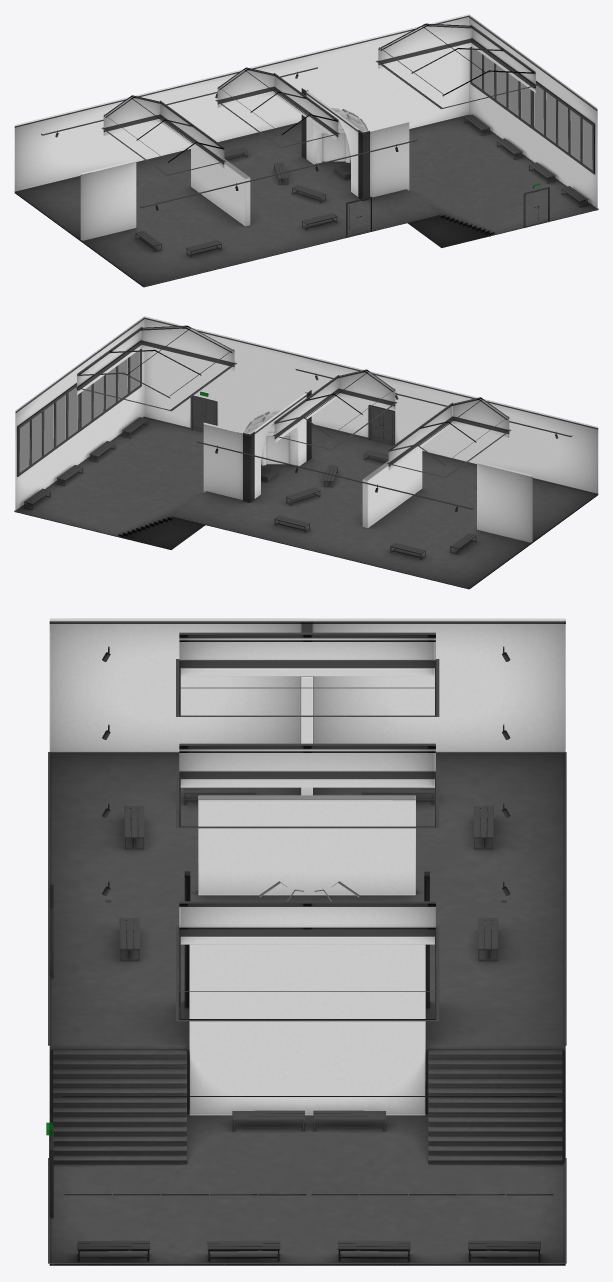
The picture shows the model from 3 angles, top to bottom: view 1: azimuth 30°, elevation 25°; view 2: azimuth 150°, elevation 25°; view 3: azimuth 270°, elevation 25°; orthographic projection. The views are drawn at different scales.
Parts seen in each view (by area): view 1: walls, floor_unity.008, ceiling, skyLight, gls, corner, chairs, Window, floor_unity.009, Doors; view 2: walls, floor_unity.008, ceiling, skyLight, gls, corner, chairs, Window, Doors, floor_unity.009; view 3: floor_unity.008, walls, floor_unity.009, ceiling, skyLight, chairs, corner, wall2.001, Window, Doors.
Part boxes in pixels (<box>): walls: <box>14,14,597,241</box>; floor_unity.008: <box>15,117,598,287</box>; ceiling: <box>103,23,535,168</box>; skyLight: <box>101,24,537,175</box>; gls: <box>472,47,592,169</box>; corner: <box>14,15,598,286</box>; chairs: <box>135,114,588,257</box>; Window: <box>470,46,594,174</box>; floor_unity.009: <box>409,190,494,235</box>; Doors: <box>346,187,549,237</box>; walls: <box>15,316,598,543</box>; floor_unity.008: <box>14,419,597,589</box>; ceiling: <box>77,325,509,470</box>; skyLight: <box>75,326,511,478</box>; gls: <box>20,350,139,471</box>; corner: <box>14,317,598,588</box>; chairs: <box>24,417,476,559</box>; Window: <box>17,348,141,476</box>; Doors: <box>190,395,394,445</box>; floor_unity.009: <box>118,492,203,536</box>; floor_unity.008: <box>49,755,565,1265</box>; walls: <box>49,618,565,1115</box>; floor_unity.009: <box>53,1049,562,1164</box>; ceiling: <box>179,638,435,944</box>; skyLight: <box>176,632,439,1021</box>; chairs: <box>77,787,540,1261</box>; corner: <box>48,621,566,1263</box>; wall2.001: <box>49,1045,565,1112</box>; Window: <box>61,1096,556,1195</box>; Doors: <box>49,884,53,1218</box>.
Size of the model in its own units: 30.6 by 8.72 by 15.12.
Materials: 5 (4 with a texture image).
